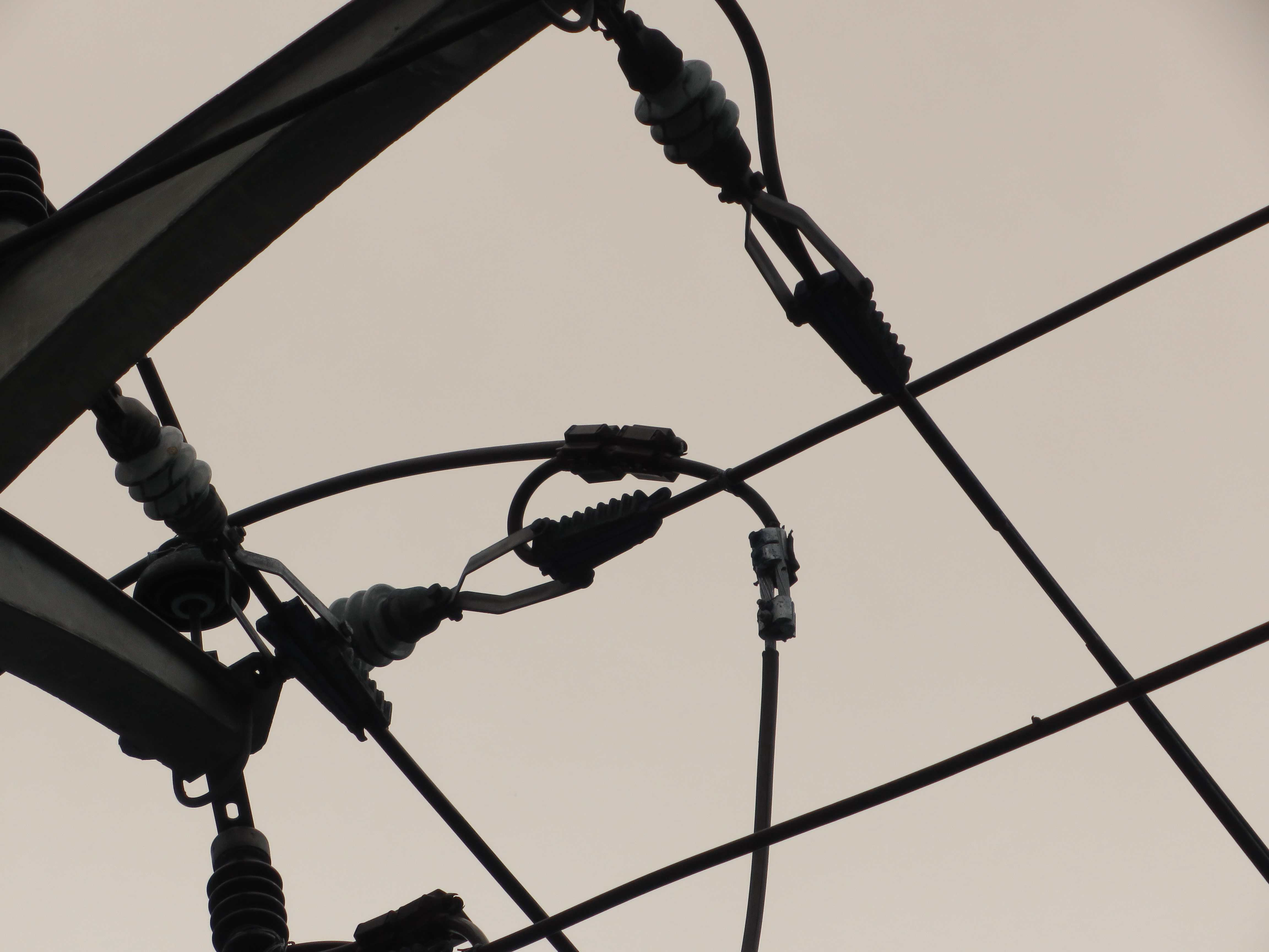severe_soiling_no_discharge_whole: (88, 383, 234, 552)
